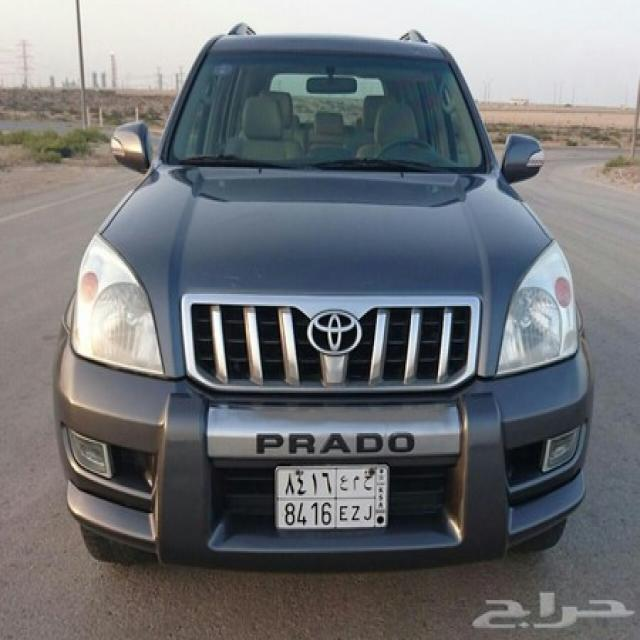license_plate: (273, 463, 390, 532)
